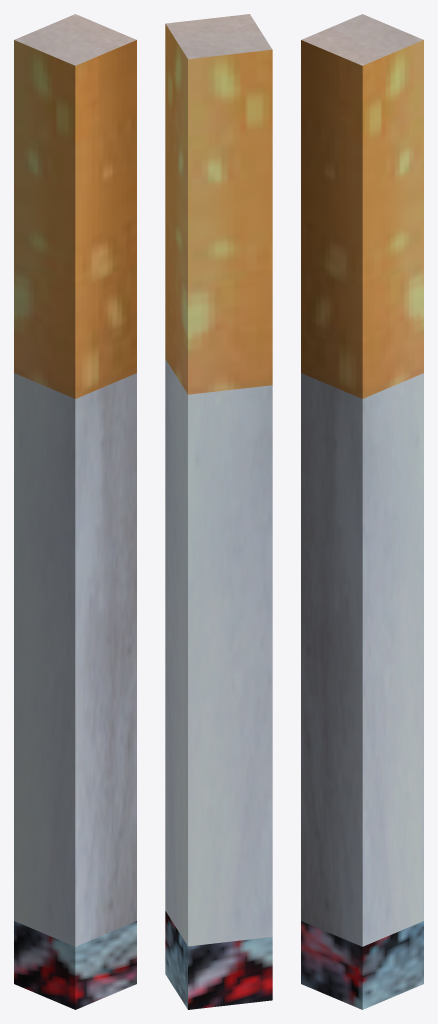
The model's file is cig_smoked.fbx.
3 renders of one model, left to right at view 1: azimuth 90°, elevation 25°; view 2: azimuth 150°, elevation 25°; view 3: azimuth 270°, elevation 25°, orthographic.
Parts seen in each view (by area): view 1: CigaretteSmoked.001; view 2: CigaretteSmoked.001; view 3: CigaretteSmoked.001.
Part boxes in pixels (x1=…): CigaretteSmoked.001: x1=14, y1=14, x2=136, y2=1009; CigaretteSmoked.001: x1=165, y1=14, x2=272, y2=1009; CigaretteSmoked.001: x1=301, y1=14, x2=423, y2=1009.
Bounding box in the file's own units: 10.47 × 88.86 × 10.47.
Materials: 1 (1 with a texture image).
